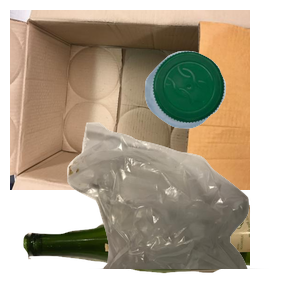cardboard: (10, 10, 250, 190)
glass: (21, 201, 261, 300)
plastic: (142, 48, 300, 169)
trash: (65, 120, 300, 300)
